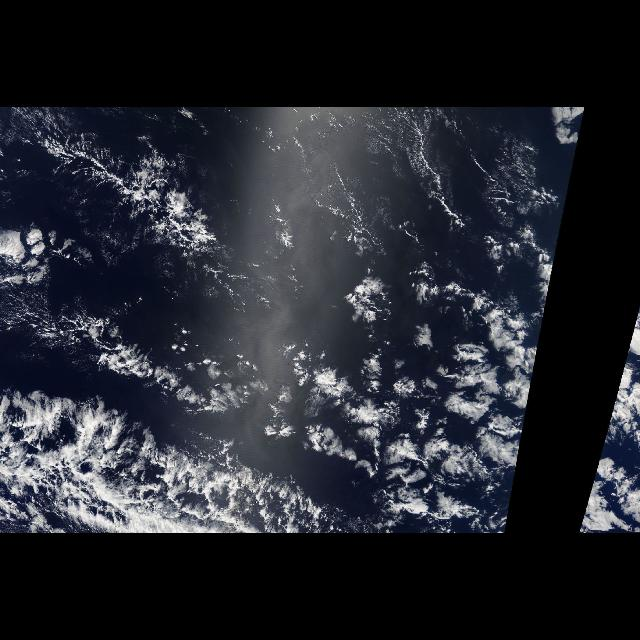Fish: (2, 107, 374, 533)
Flower: (266, 238, 558, 512)
